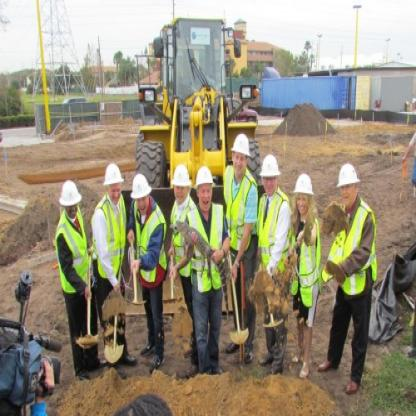person: (318, 154, 381, 404), (184, 128, 238, 385), (222, 116, 263, 377), (50, 148, 91, 398), (88, 131, 127, 388), (128, 139, 166, 374), (284, 139, 320, 381), (256, 130, 286, 376), (164, 127, 191, 378)
